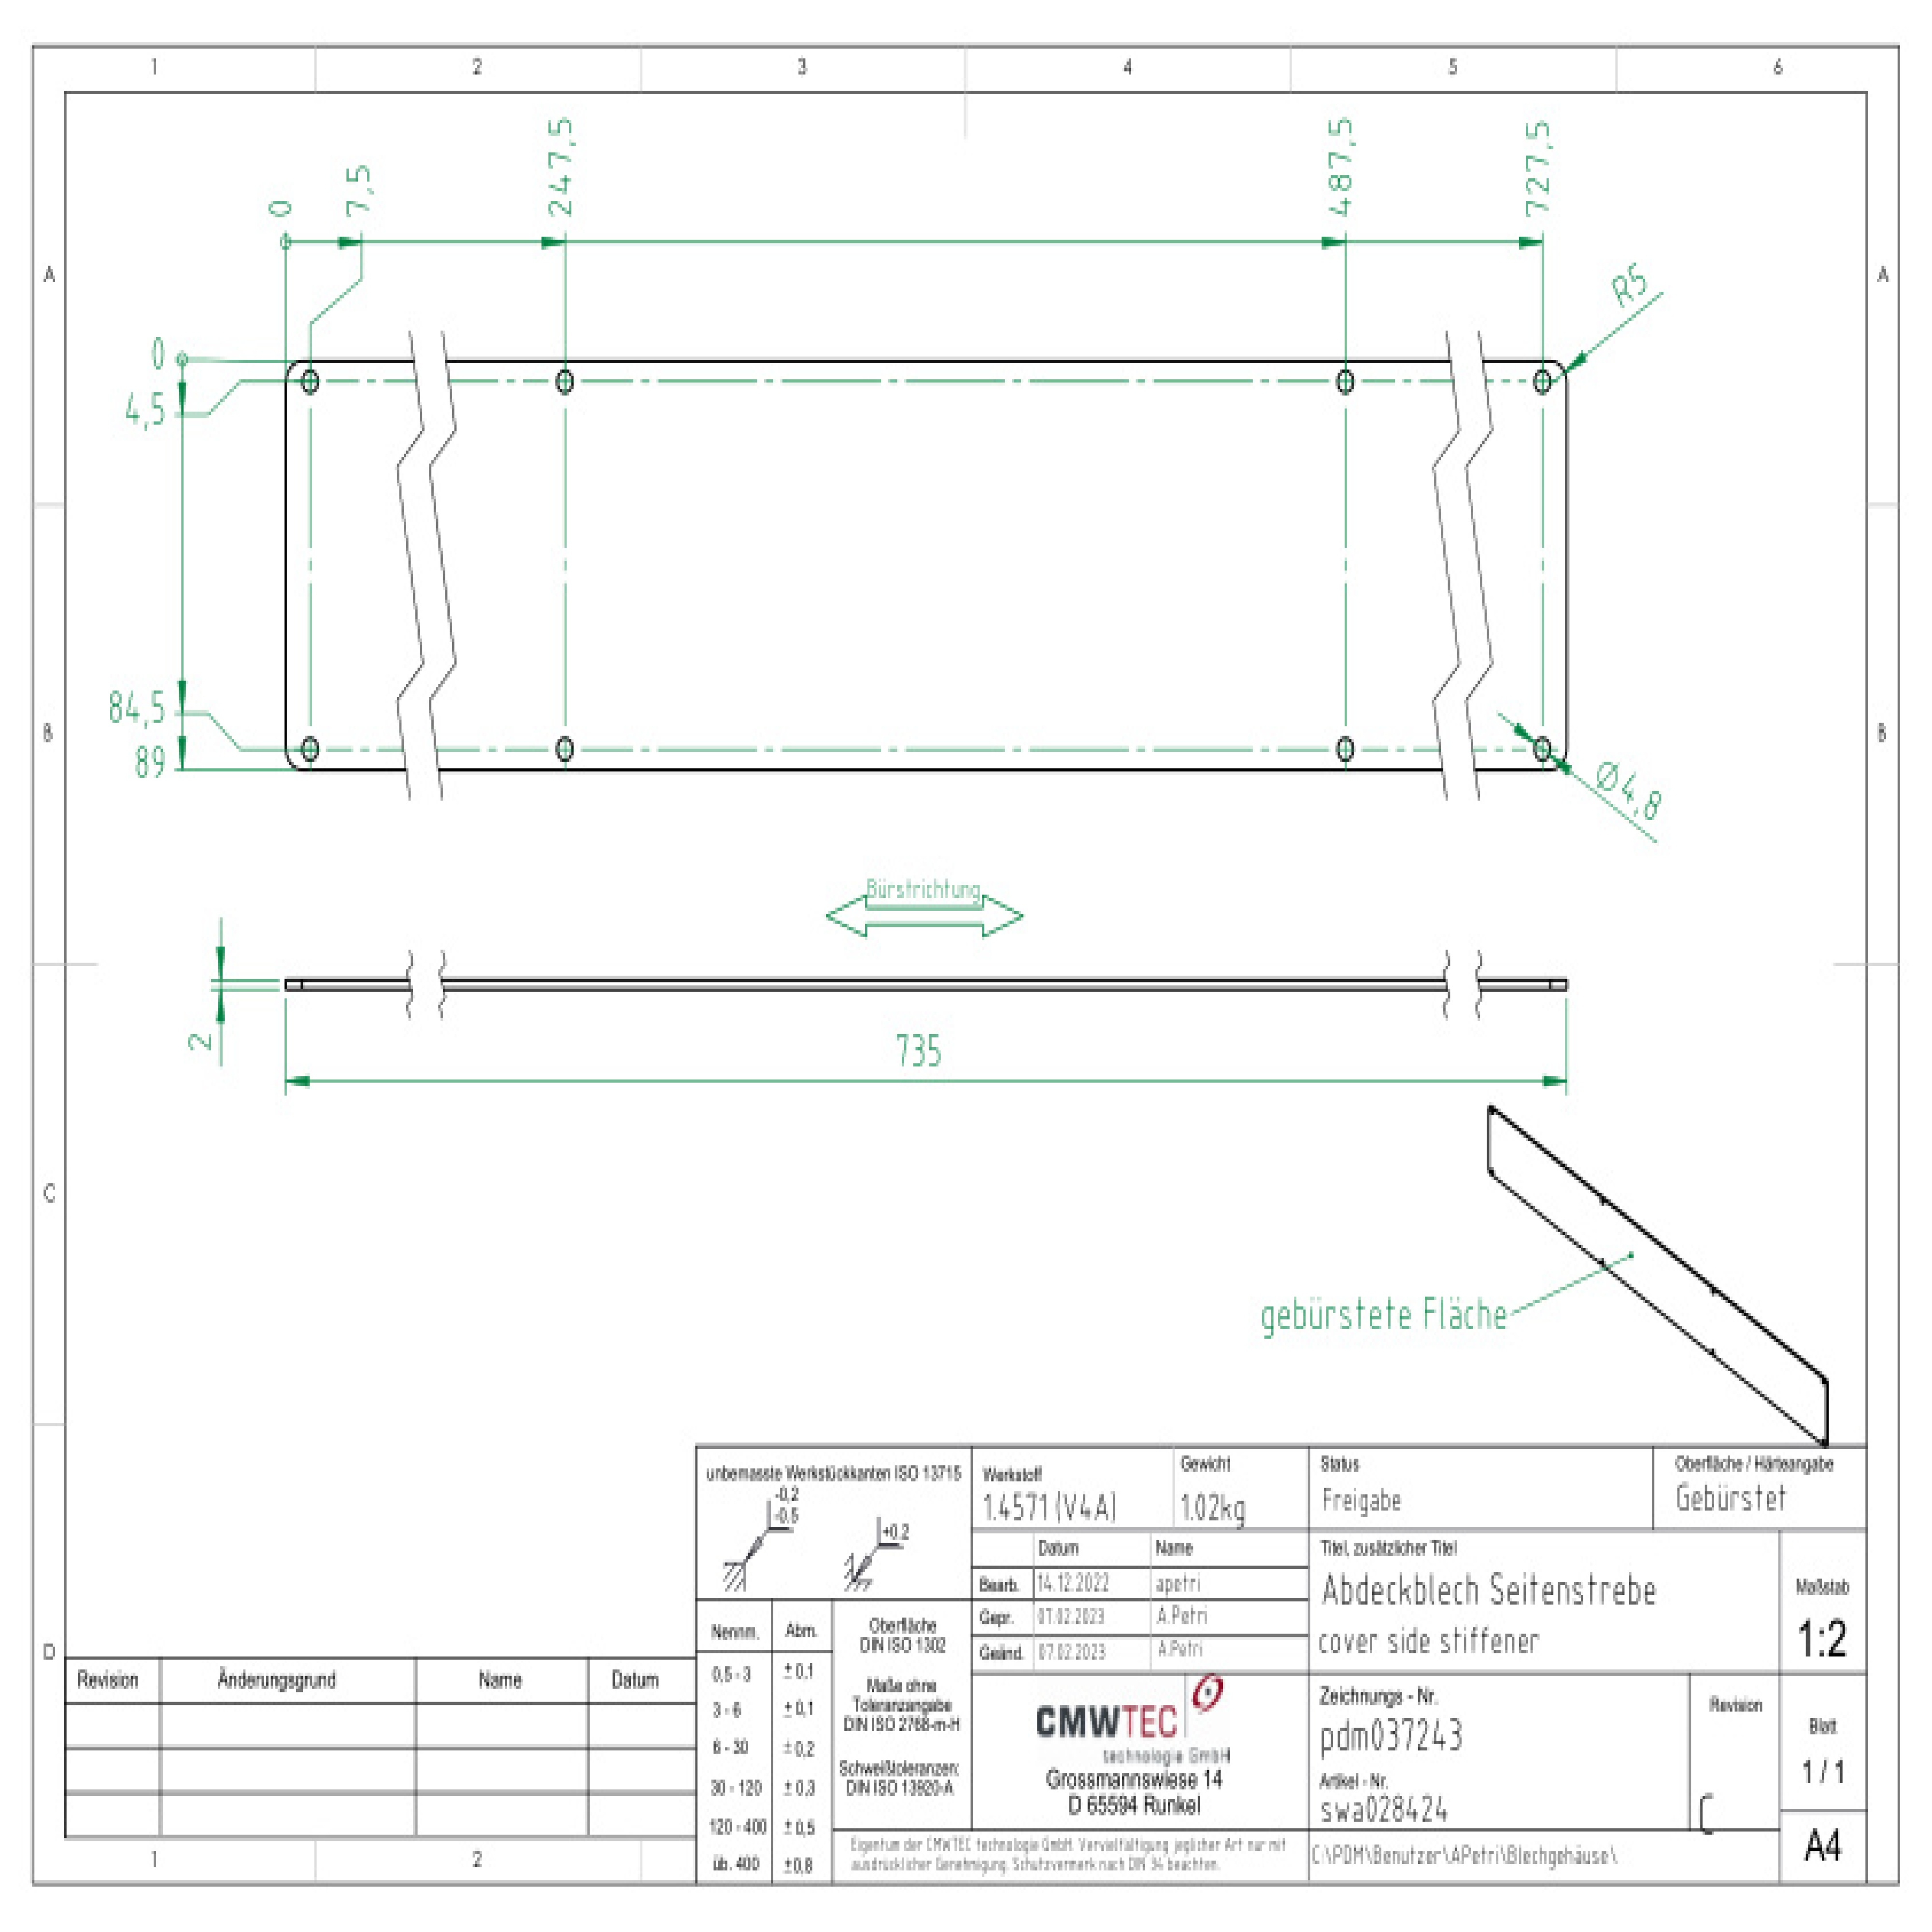InnerContour: (297, 366, 326, 396), (550, 732, 577, 763), (1334, 732, 1359, 764), (550, 368, 579, 395), (301, 732, 326, 763), (1336, 366, 1357, 398), (1530, 366, 1552, 395), (1534, 736, 1553, 761)
